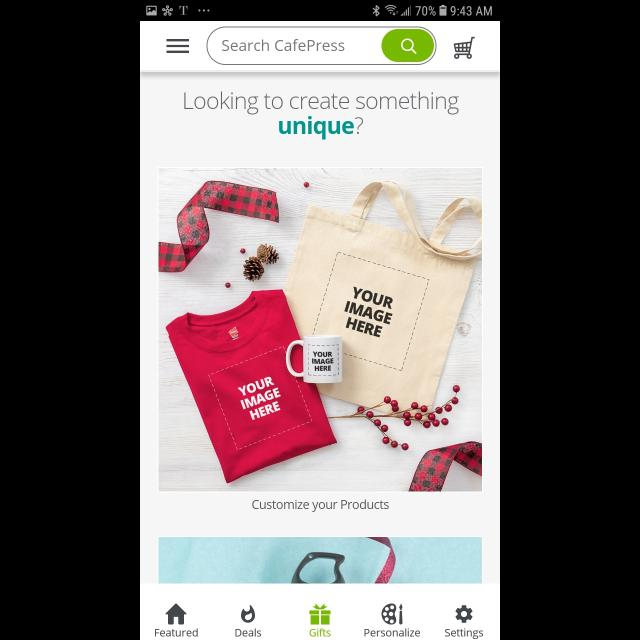icon: (382, 29, 434, 62), (453, 36, 475, 59), (166, 604, 187, 624), (310, 604, 330, 624), (167, 38, 190, 54), (455, 605, 473, 623), (240, 605, 256, 623)
image: (158, 168, 482, 492), (158, 536, 482, 584), (382, 603, 402, 625)
input: (207, 26, 438, 66)
text: (185, 92, 459, 140), (252, 500, 390, 512), (223, 39, 345, 51), (445, 628, 483, 640), (364, 628, 420, 636), (156, 628, 198, 636), (236, 628, 262, 636), (310, 628, 330, 636)
uppertaskbar: (142, 1, 500, 22)
